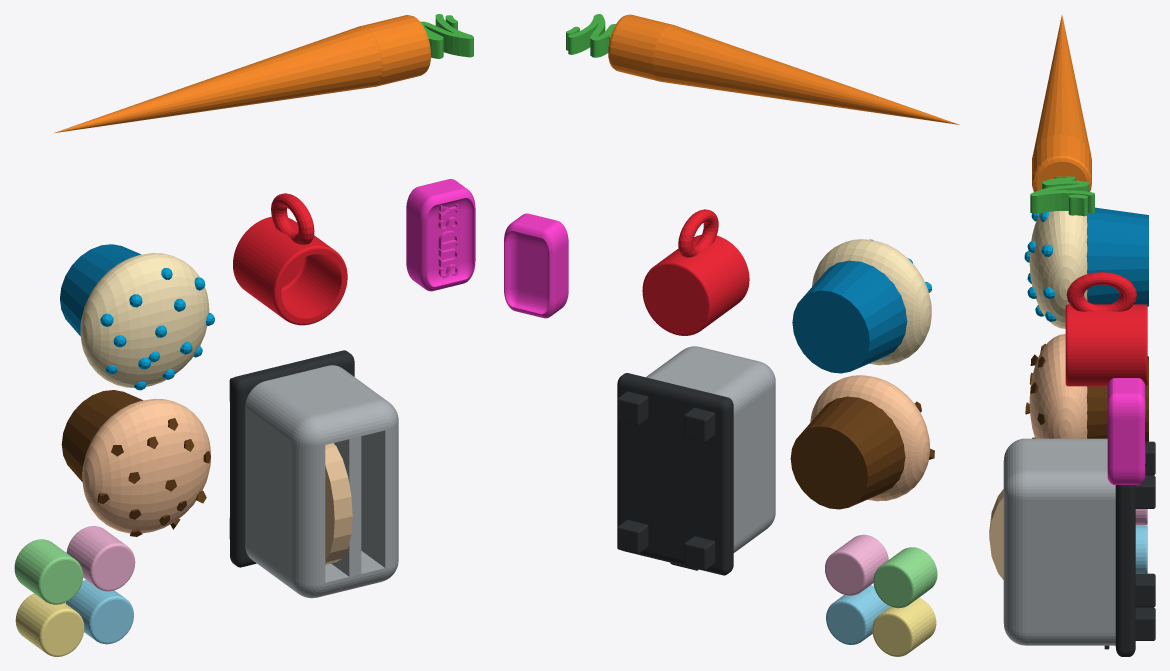
File: soap bar1.obj
3 views of the same model, side by side, from view 1: azimuth 30°, elevation 25°; view 2: azimuth 150°, elevation 25°; view 3: azimuth 270°, elevation 25° (orthographic). The views are drawn at different scales.
Parts seen in each view (by area): view 1: group_0_10988977, group_0_16089887, group_0_16500122, group_0_16311991, group_0_15277357, group_0_16530383, group_0_2829873, group_0_6306067, group_0_9230990, group_0_15708628, group_0_15655053, group_0_30377 (+4 smaller); view 2: group_0_2829873, group_0_16089887, group_0_10988977, group_0_6306067, group_0_30377, group_0_15277357, group_0_16530383, group_0_16311991, group_0_16500122, group_0_9230990, group_0_15708628, group_0_15655053 (+2 smaller); view 3: group_0_10988977, group_0_15277357, group_0_2829873, group_0_16089887, group_0_30377, group_0_16311991, group_0_16500122, group_0_16530383, group_0_4634441, group_0_6306067, group_0_14860437, group_0_40919 (+1 smaller).
Part boxes in pixels (<box>): group_0_10988977: <box>245,365,398,598</box>; group_0_16089887: <box>53,15,430,133</box>; group_0_16500122: <box>82,398,210,533</box>; group_0_16311991: <box>80,253,209,387</box>; group_0_15277357: <box>233,193,347,325</box>; group_0_16530383: <box>406,179,475,291</box>; group_0_2829873: <box>229,350,354,567</box>; group_0_6306067: <box>61,390,210,536</box>; group_0_9230990: <box>14,539,83,604</box>; group_0_15708628: <box>66,526,135,591</box>; group_0_15655053: <box>15,593,84,656</box>; group_0_30377: <box>60,244,141,336</box>; group_0_2829873: <box>617,373,733,575</box>; group_0_16089887: <box>608,14,959,124</box>; group_0_10988977: <box>646,346,775,552</box>; group_0_6306067: <box>790,396,934,509</box>; group_0_30377: <box>792,260,907,373</box>; group_0_15277357: <box>642,209,749,335</box>; group_0_16530383: <box>504,213,568,318</box>; group_0_16311991: <box>812,239,931,365</box>; group_0_16500122: <box>810,375,929,501</box>; group_0_9230990: <box>873,547,937,608</box>; group_0_15708628: <box>825,534,888,595</box>; group_0_15655053: <box>872,597,936,656</box>; group_0_10988977: <box>1003,438,1115,645</box>; group_0_15277357: <box>1065,272,1147,386</box>; group_0_2829873: <box>1104,441,1155,656</box>; group_0_16089887: <box>1032,14,1091,191</box>; group_0_30377: <box>1086,207,1148,306</box>; group_0_16311991: <box>1029,211,1087,328</box>; group_0_16500122: <box>1029,334,1087,438</box>; group_0_16530383: <box>1107,378,1145,484</box>; group_0_4634441: <box>1030,176,1094,216</box>; group_0_6306067: <box>1025,343,1148,441</box>; group_0_14860437: <box>989,489,1003,579</box>; group_0_40919: <box>1024,212,1056,321</box>.
Size of the model in its own units: 751 by 916 by 251.
